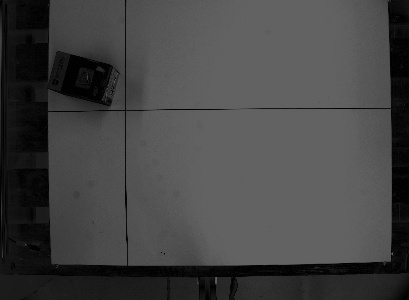b4: (44, 50, 121, 107)
